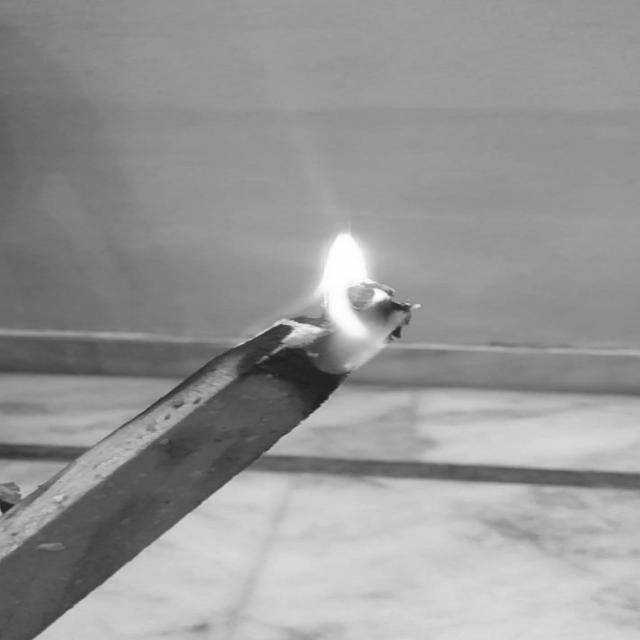smoke: (276, 222, 423, 370)
